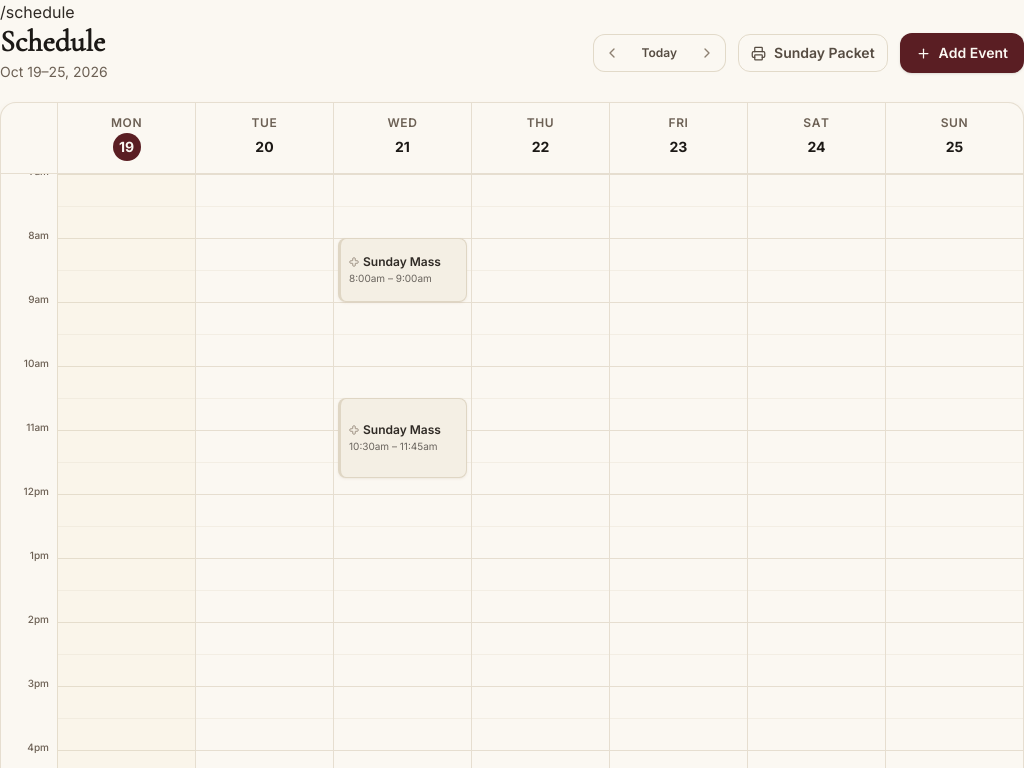
Test case: Open(eventId) on Schedule › opening a Mass from the grid writes ?event= so the destination is shareable
Click the button "Sunday Mass 8:00am – 9:00am": click(402, 270) [338, 238, 467, 302]
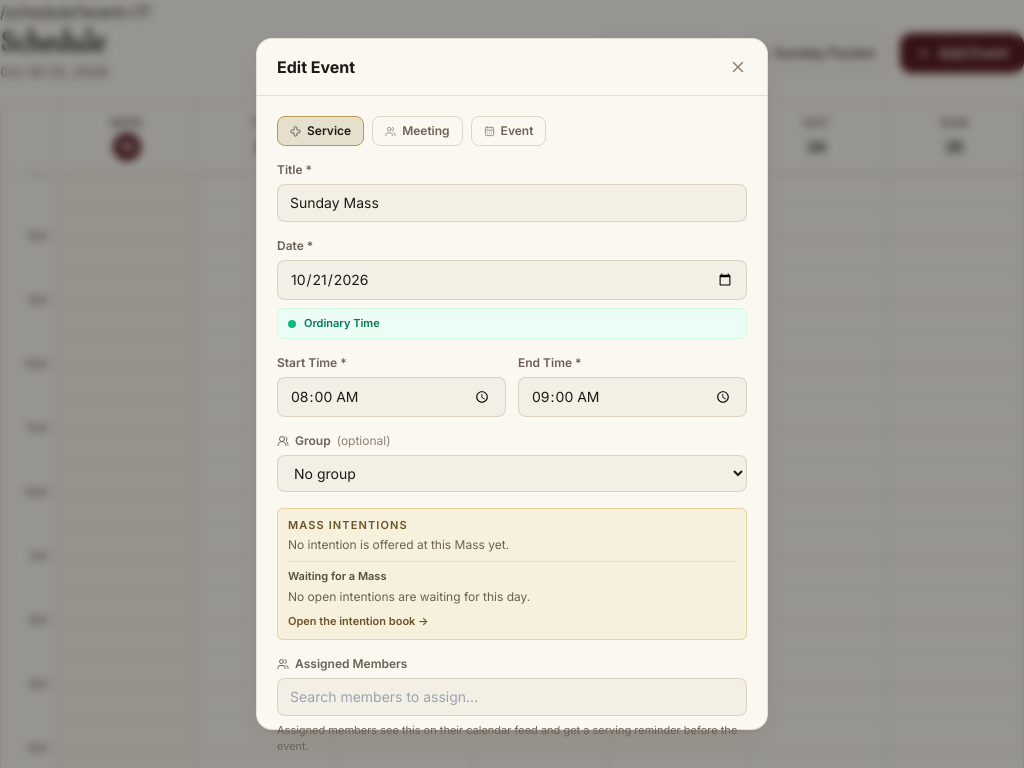
expect the heading "Edit Event" is shown: met, box [277, 55, 355, 79]
expect the time field below "Start Time" holds "08:00": met, box [277, 377, 506, 417]
